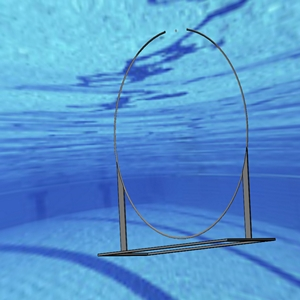circle: (96, 28, 276, 258)
